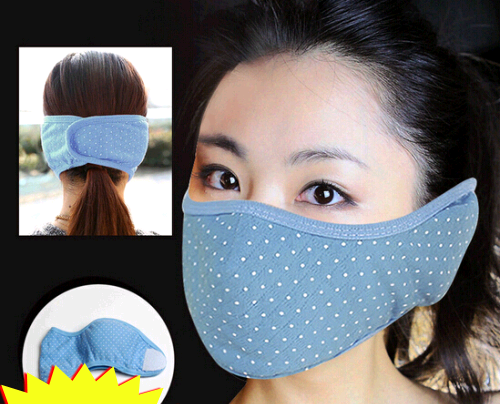face_mask: (182, 61, 425, 379)
